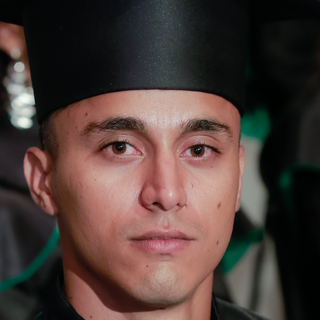eye: (97, 135, 151, 166), (178, 138, 224, 167)
